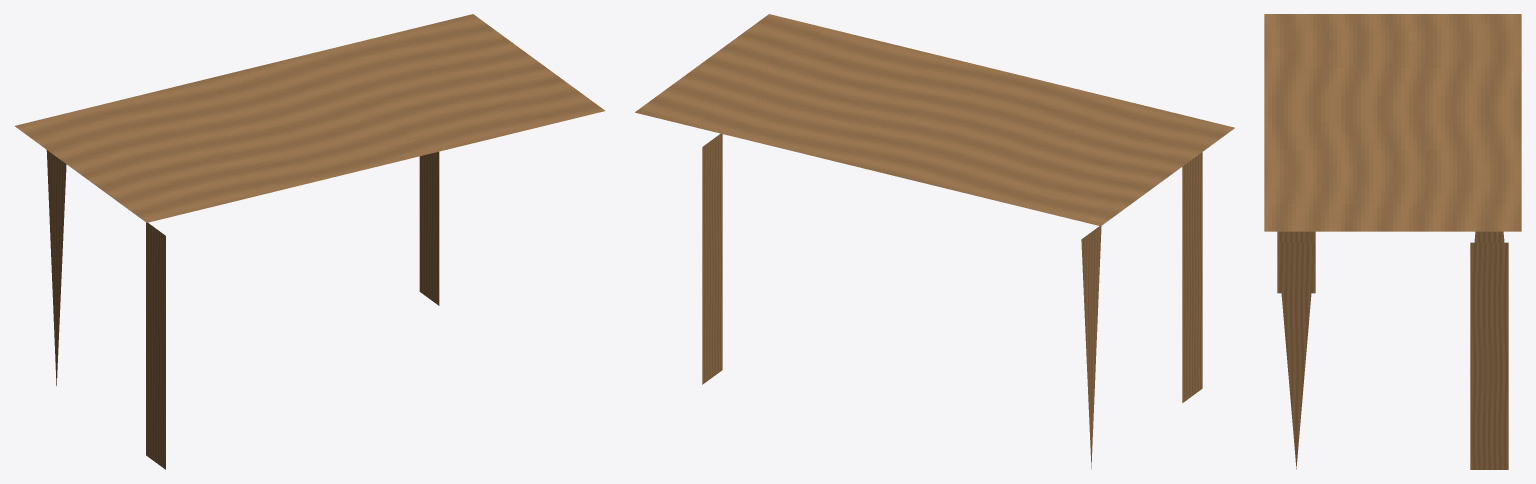
The picture shows the model from 3 angles, left to right: view 1: azimuth 30°, elevation 25°; view 2: azimuth 150°, elevation 25°; view 3: azimuth 270°, elevation 25°; orthographic projection. The views are drawn at different scales.
Parts seen in each view (by area): view 1: Schwerer Hütten-Eichentisch; view 2: Schwerer Hütten-Eichentisch; view 3: Schwerer Hütten-Eichentisch.
Boxes of the visible parts, bbox=[...] form: Schwerer Hütten-Eichentisch: bbox=[15, 14, 605, 469]; Schwerer Hütten-Eichentisch: bbox=[635, 14, 1234, 469]; Schwerer Hütten-Eichentisch: bbox=[1264, 14, 1521, 469].
Bounding box in the file's own units: 1.6 × 0.86 × 0.8.
1 material, 1 textured.
